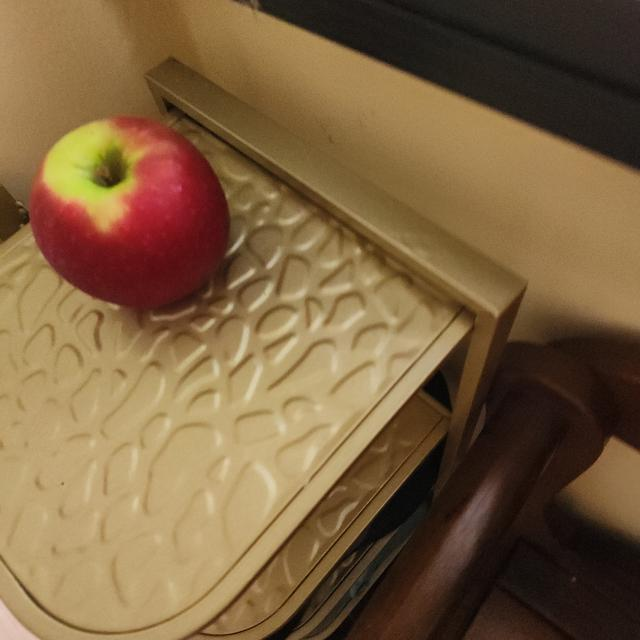apple: (21, 111, 238, 319)
